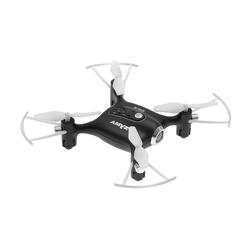drone: (18, 59, 232, 190)
